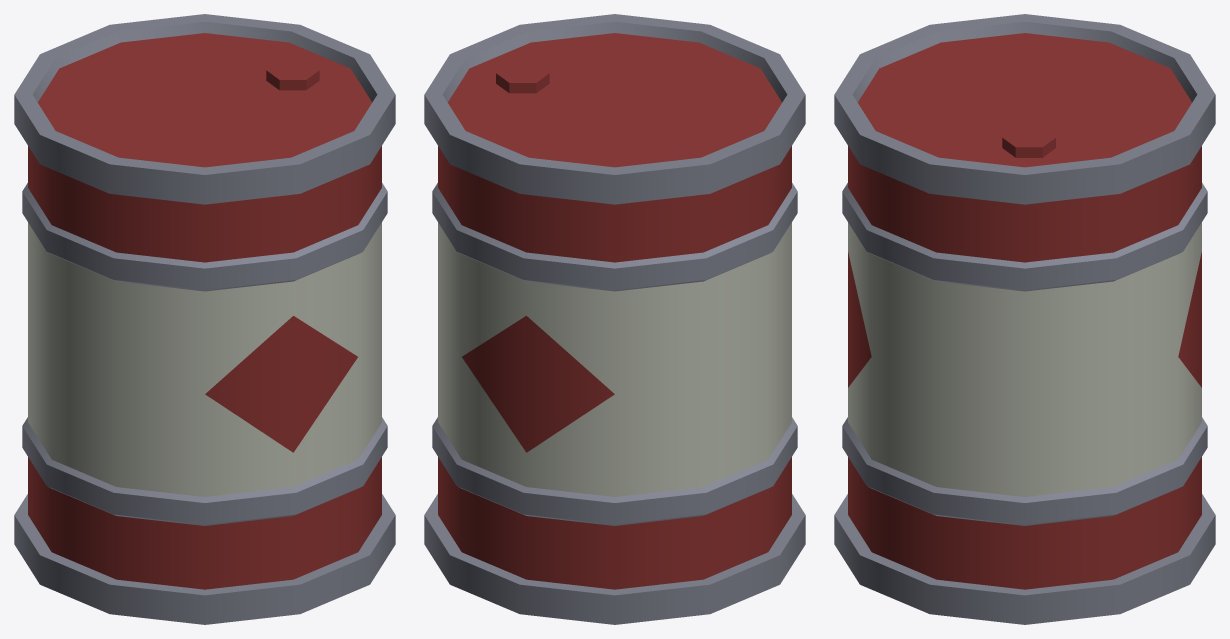
The model's file is Exploding Barrel.glb.
3 views of the same model, side by side, from view 1: azimuth 30°, elevation 25°; view 2: azimuth 150°, elevation 25°; view 3: azimuth 270°, elevation 25° (orthographic).
Parts seen in each view (by area): view 1: Exploding Barrel; view 2: Exploding Barrel; view 3: Exploding Barrel.
Part boxes in pixels (x1,y1,x2,y2): Exploding Barrel: (14, 14, 395, 624); Exploding Barrel: (424, 14, 805, 624); Exploding Barrel: (834, 14, 1215, 624).
Size of the model in its own units: 0.2763 by 0.3605 by 0.2763.
